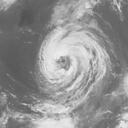cyclone: (38, 23, 111, 110)
